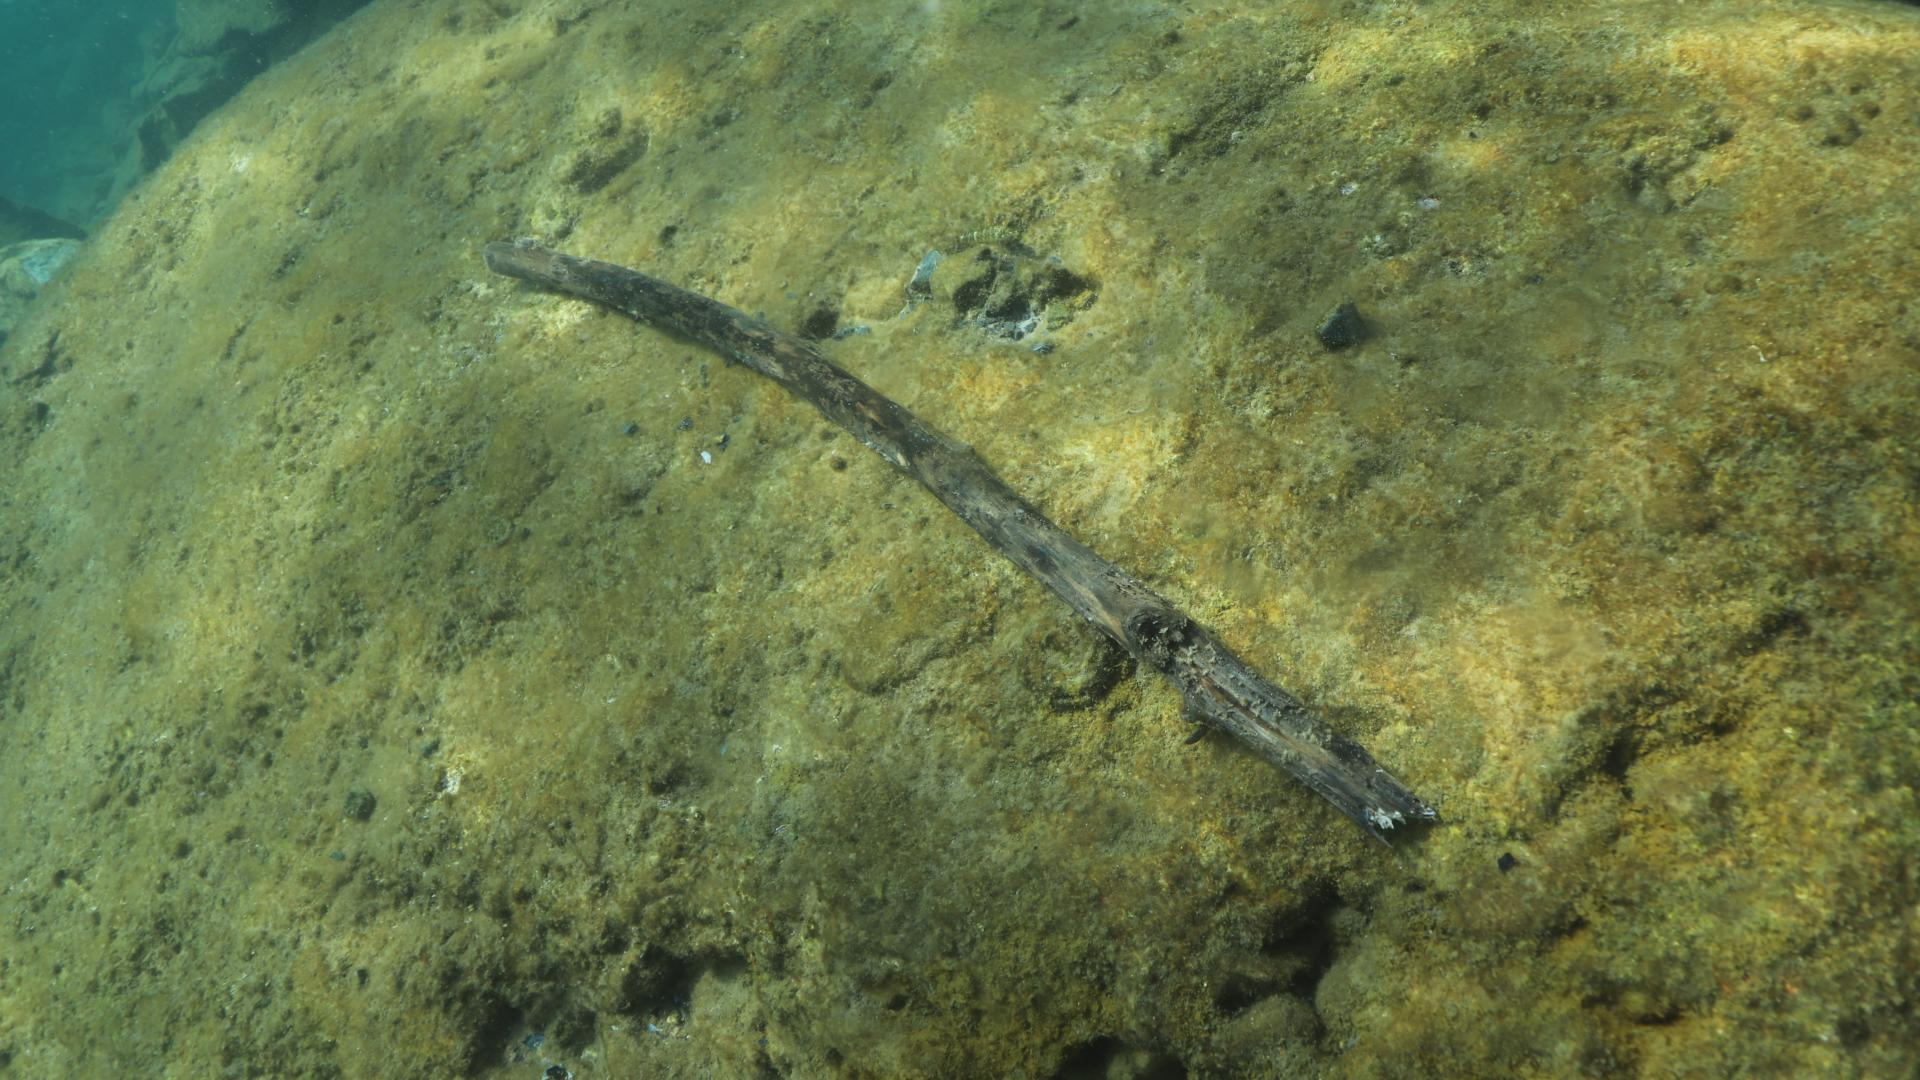wood: (480, 237, 1443, 847)
